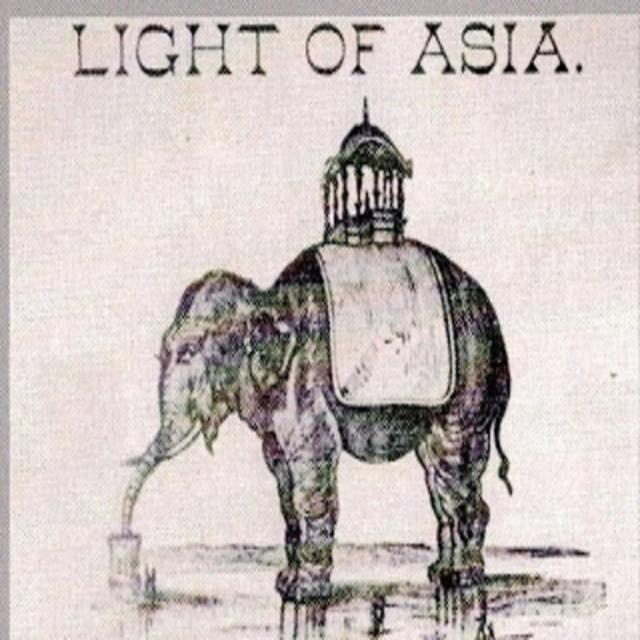elephant: (144, 243, 490, 618)
